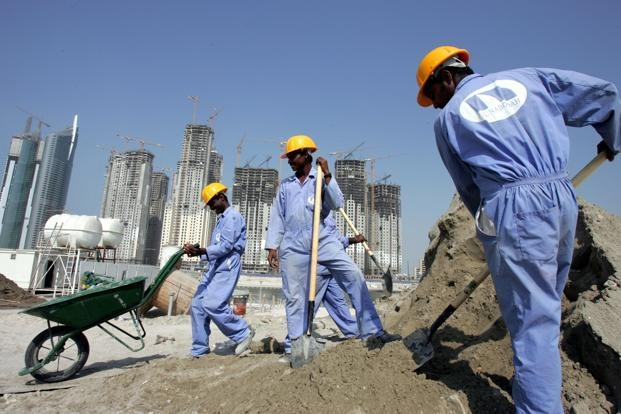yellow: (417, 46, 472, 109), (284, 135, 316, 171), (200, 183, 229, 213)
